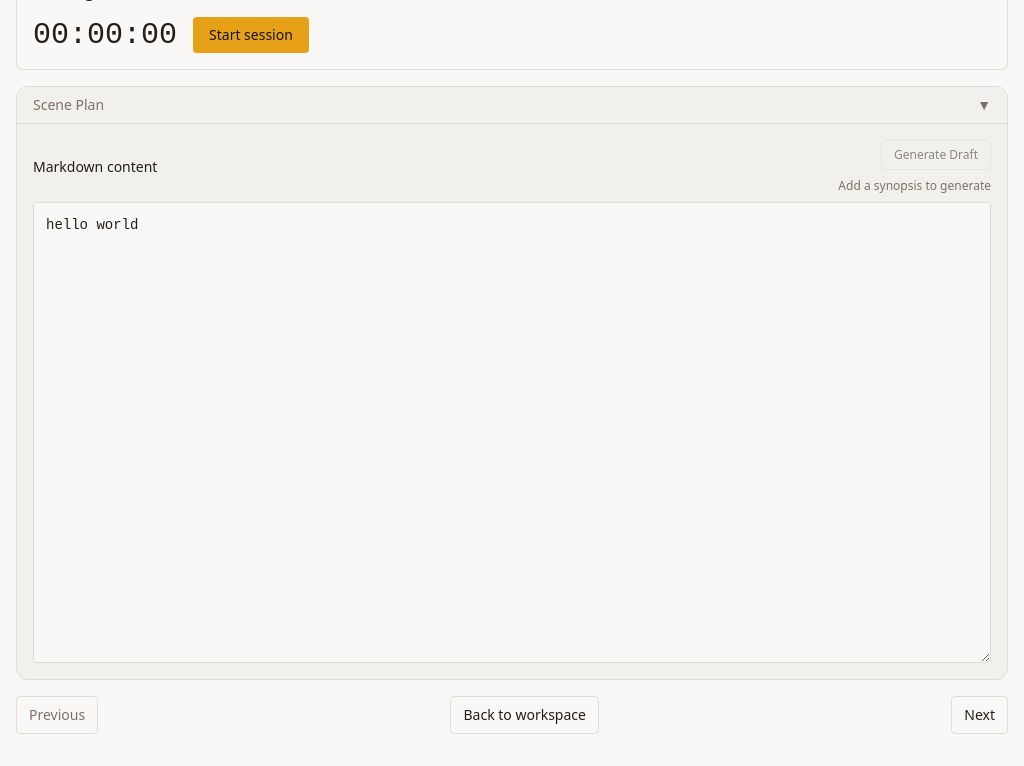
Scenario: SceneEditorShell › shows save error and retries manually
This screenshot has width=1024, height=766.
(page scrolled)
Step 1. Replace the text in the text box labelled "Markdown content" with "new markdown value" → (512,432), box left=33, top=202, right=991, bottom=663
Wait 800 ms
(page scrolled)
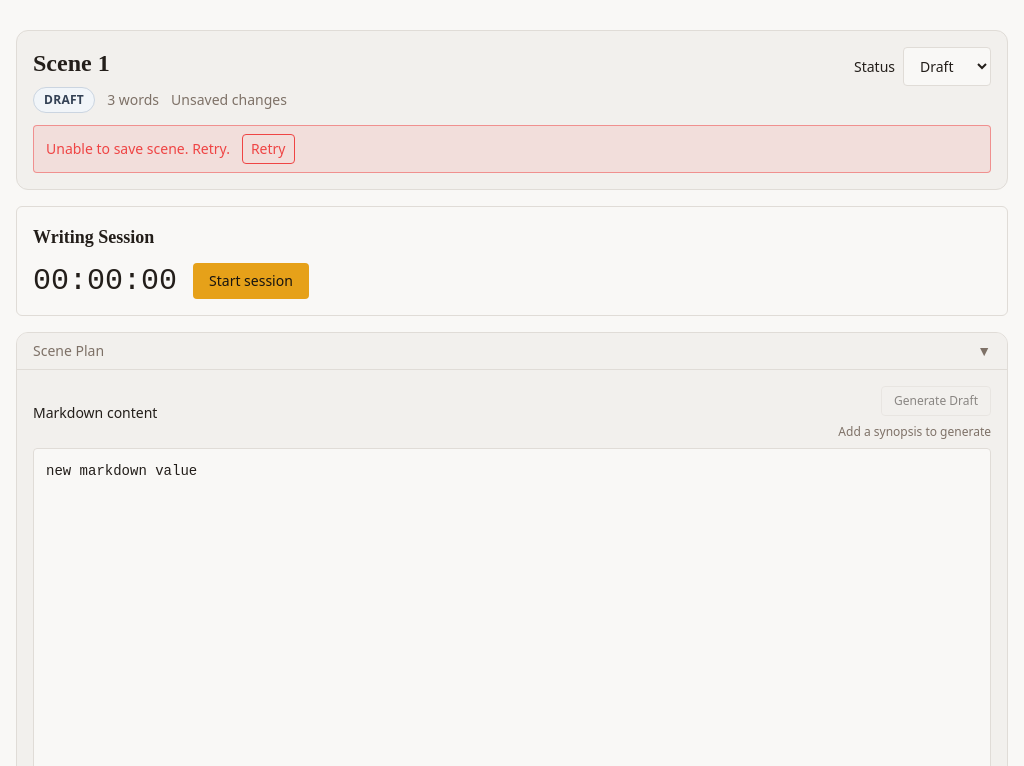
Expected: the text "Unable to save scene. Retry." is shown, left=46, top=139, right=230, bottom=159
Step 2. Click the button "Retry" → (268,149), box left=242, top=134, right=294, bottom=164
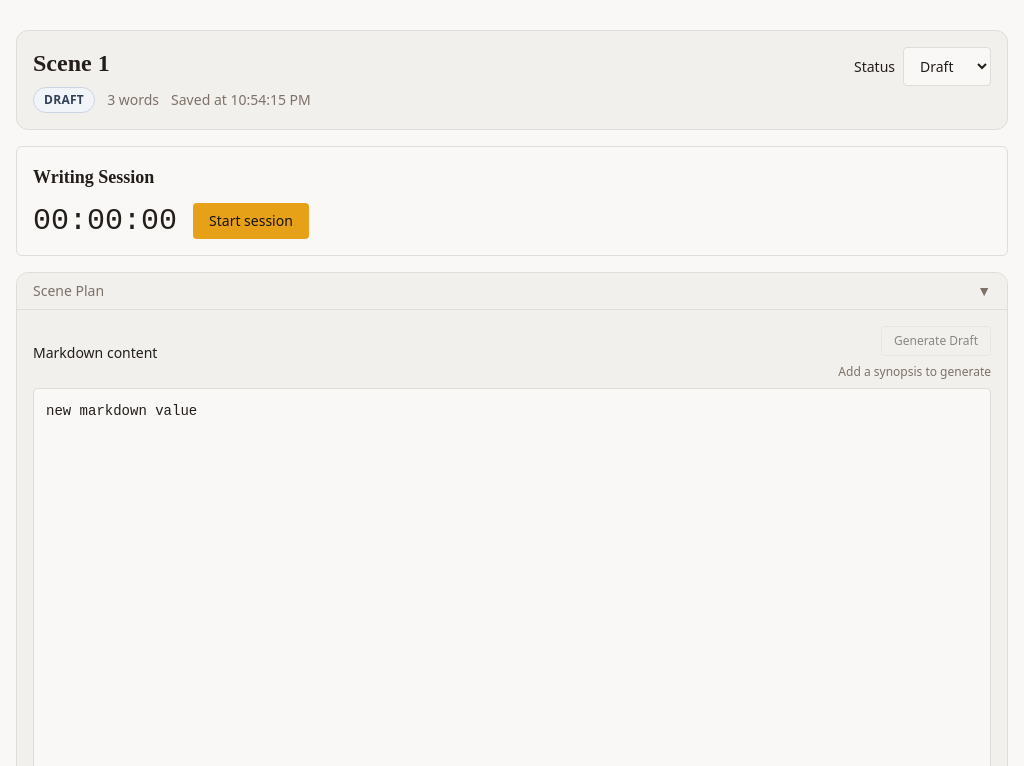
Expected: the text "Unable to save scene. Retry." is gone
